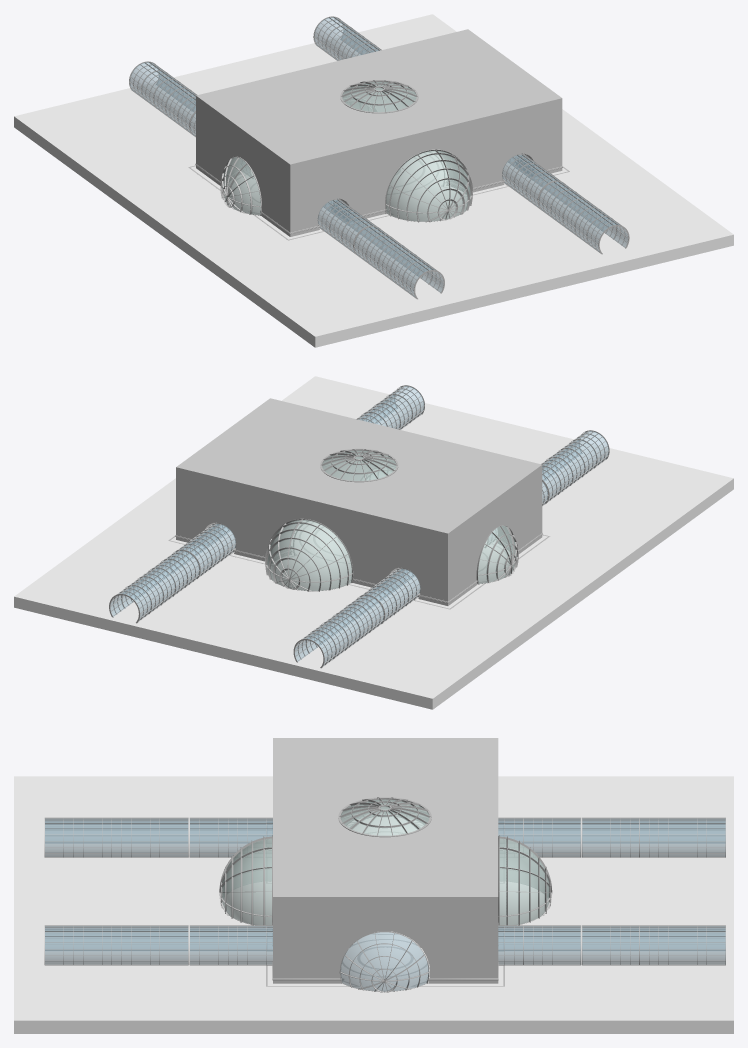
3 views of the same model, one above another, from view 1: azimuth 30°, elevation 25°; view 2: azimuth 150°, elevation 25°; view 3: azimuth 270°, elevation 25° (orthographic). The views are drawn at different scales.
Visible parts, largest first — view 1: Base, Shape009, Sphere004, Shape179, Shape182, Shape173, Shape169, Shape151, Shape155, Shape118, Sphere007, Sphere001 (+15 smaller); view 2: Base, Shape009, Sphere005, Shape173, Shape169, Shape179, Shape182, Shape159, Shape163, Shape121, Sphere007, Sphere001 (+15 smaller); view 3: Base, Shape009, Shape182, Shape169, Shape179, Shape173, Sphere008, Shape151, Sphere005, Shape163, Sphere004, Shape180 (+18 smaller).
Part boxes in pixels (x1,y1,x2,y2): Base: (14,14,733,347); Shape009: (196,29,562,165); Sphere004: (386,150,470,221); Shape179: (354,226,443,296); Shape182: (539,181,627,251); Shape173: (129,62,195,131); Shape169: (314,17,380,60); Shape151: (502,154,566,207); Shape155: (318,200,382,252); Shape118: (385,149,472,222); Sphere007: (222,157,260,215); Sphere001: (342,82,416,112); Base: (14,376,733,709); Shape009: (176,398,541,534); Sphere005: (267,520,352,590); Shape173: (295,595,383,665); Shape169: (110,550,199,620); Shape179: (542,431,608,500); Shape182: (357,386,424,429); Shape159: (356,569,420,621); Shape163: (171,524,235,576); Shape121: (265,518,353,591); Sphere007: (478,525,516,583); Sphere001: (322,450,396,480); Base: (14,776,733,1033); Shape009: (273,738,498,897); Shape182: (45,926,188,964); Shape169: (582,926,725,964); Shape179: (45,818,188,856); Shape173: (582,818,725,856); Sphere008: (340,932,428,991); Shape151: (190,926,272,964); Sphere005: (499,838,549,925); Shape163: (498,926,580,964); Sphere004: (220,838,271,925); Shape180: (45,817,188,857).
Bounding box in the file's own units: 154 × 32.39 × 192.
